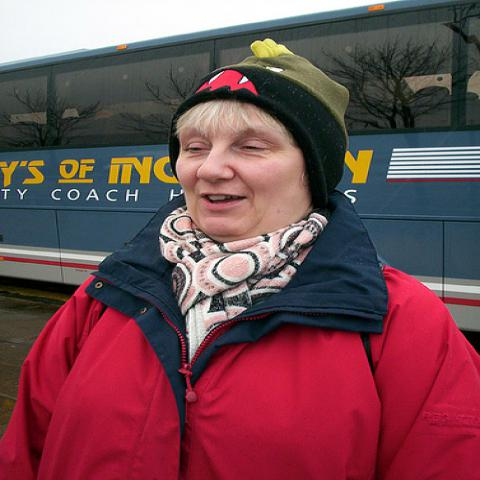bus: (1, 0, 479, 336)
